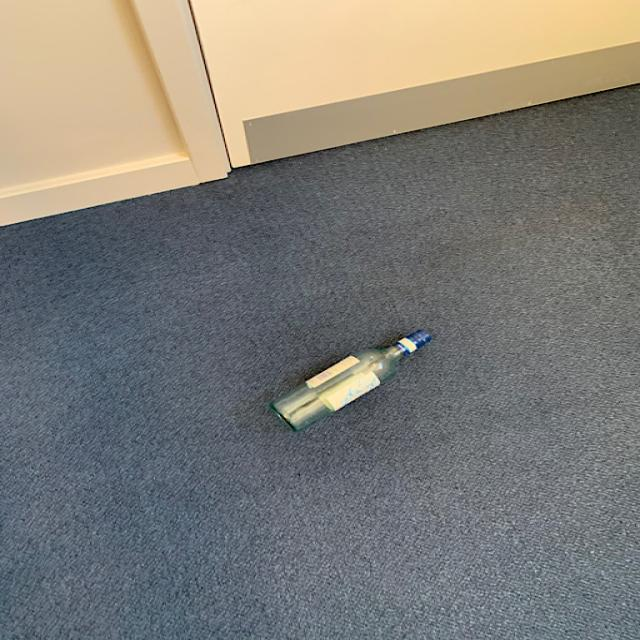litter: (268, 325, 432, 432)
